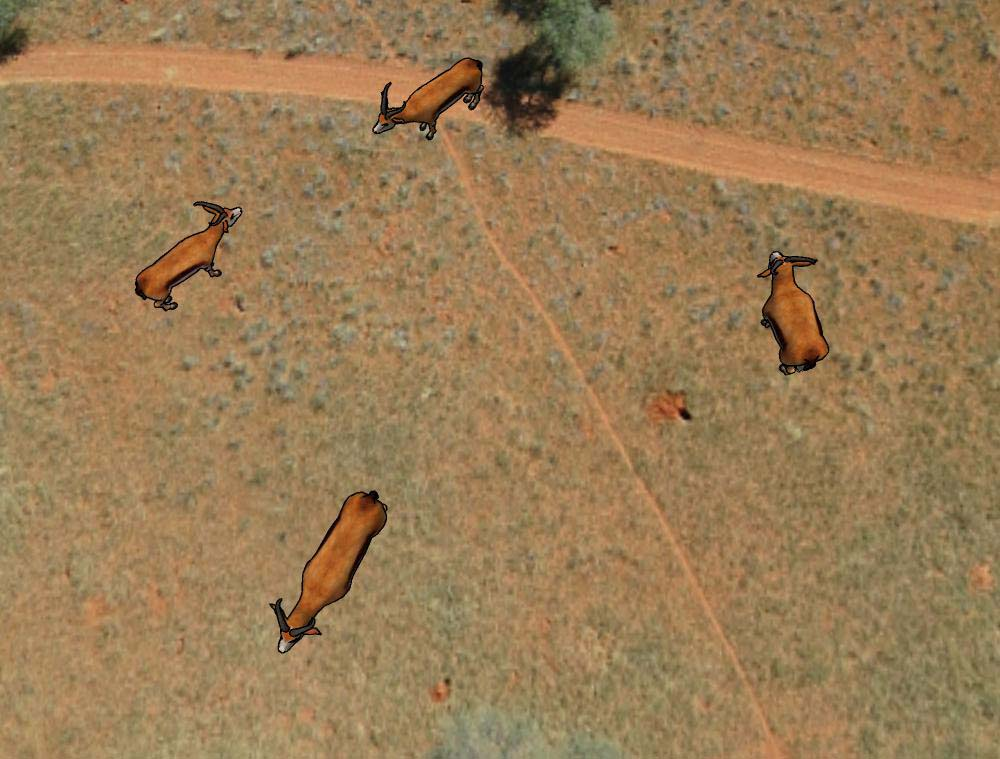springbok: (272, 484, 389, 661), (130, 200, 248, 313), (756, 249, 833, 381), (372, 56, 486, 143)
